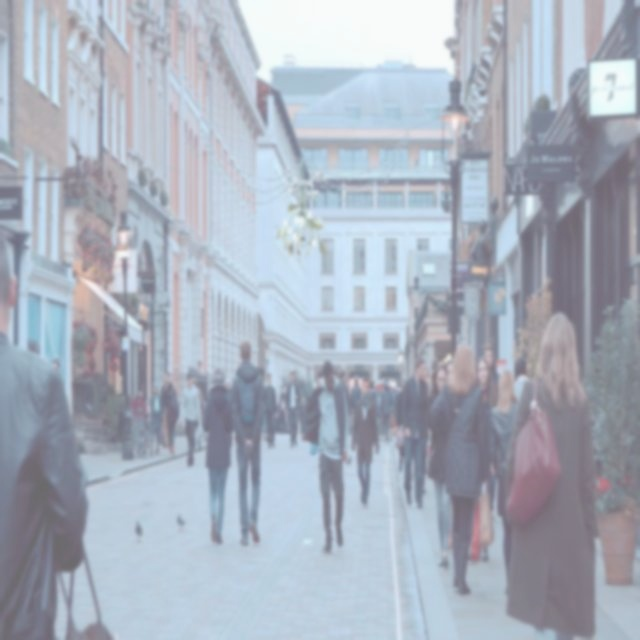pessoa: (0, 236, 91, 639), (502, 309, 598, 639), (428, 338, 494, 598), (301, 358, 351, 556), (486, 365, 520, 596), (230, 337, 266, 547), (200, 366, 233, 546), (426, 360, 452, 570), (401, 353, 428, 511), (350, 376, 380, 508), (42, 356, 63, 491), (178, 370, 203, 468), (428, 356, 446, 486), (394, 376, 412, 474), (262, 370, 280, 450), (337, 367, 352, 462), (163, 380, 180, 458), (476, 356, 499, 412), (286, 368, 302, 448), (420, 370, 430, 494), (378, 376, 394, 447), (148, 381, 163, 456), (484, 342, 502, 398), (222, 376, 235, 450), (159, 369, 174, 431), (367, 378, 380, 449), (193, 376, 205, 451), (512, 354, 530, 404), (256, 378, 269, 442), (275, 383, 290, 436), (130, 389, 149, 419), (350, 374, 362, 418), (420, 366, 432, 398), (297, 394, 306, 434), (444, 358, 454, 381), (314, 371, 324, 394), (197, 360, 206, 378)
